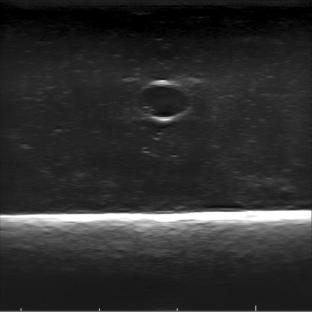vessel: (135, 79, 193, 122)
